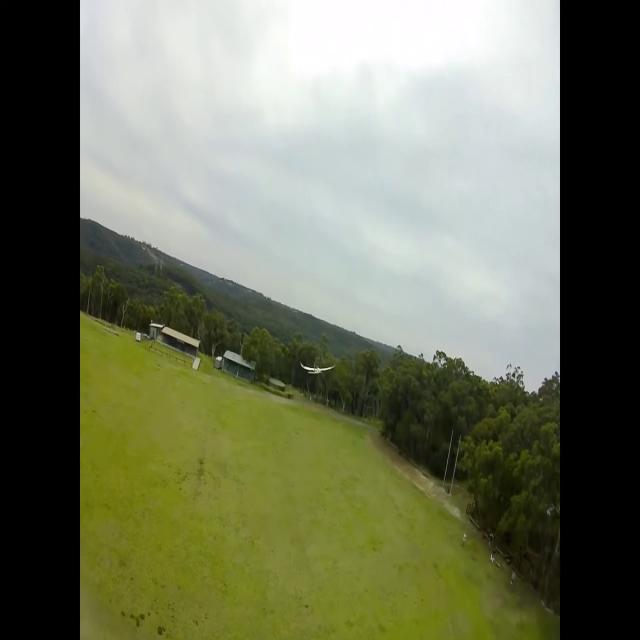iha: (301, 362, 333, 377)
